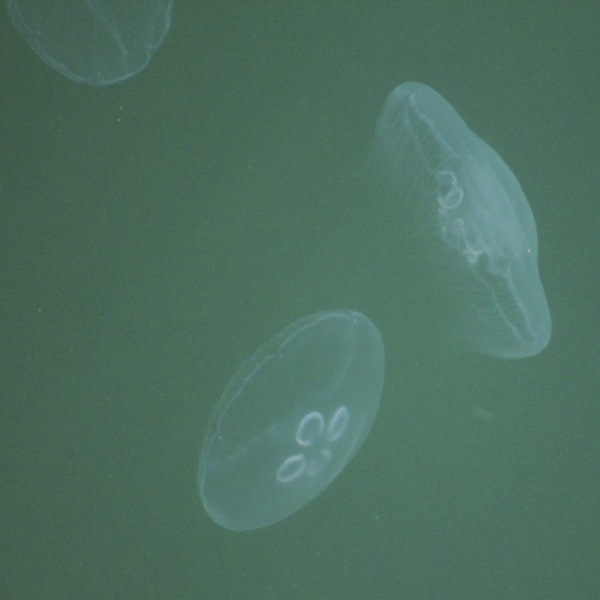Jellyfish: (370, 85, 554, 365), (196, 315, 382, 533), (2, 0, 178, 85)
